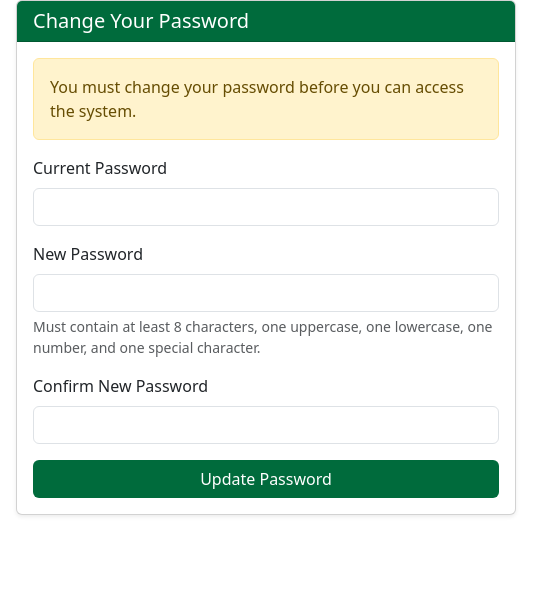
Test: ChangePassword Component › should validate that new passwords match
Type "password123" into the password field labelled "Current Password" at (266, 207), box [33,188,499,226]
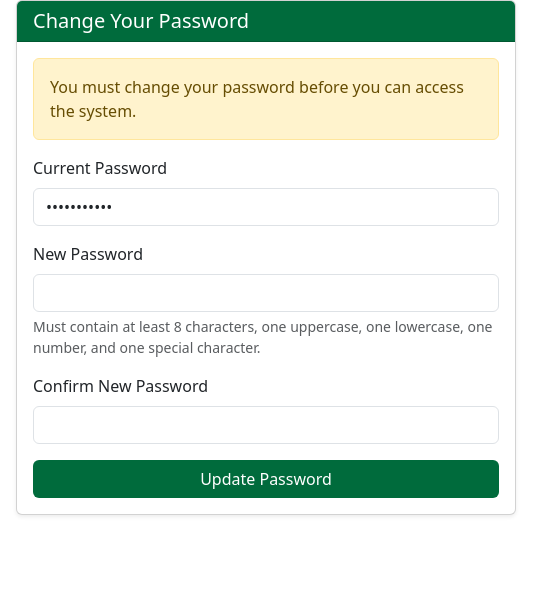
Type "NewPassword1!" into the password field labelled "New Password" at (266, 293), box [33,274,499,312]
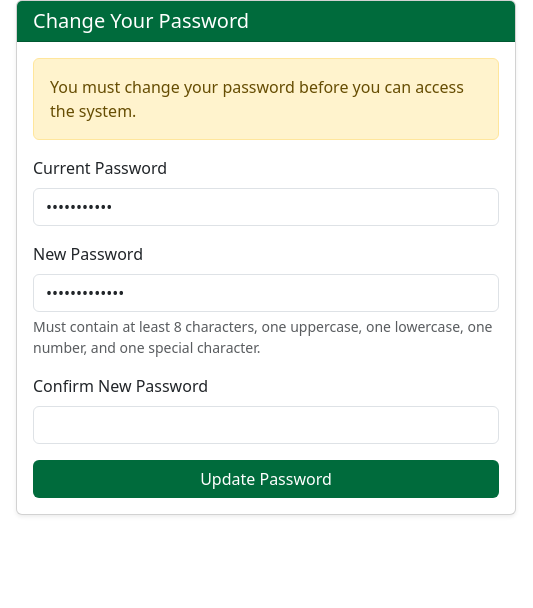
Type "DifferentPassword1!" into the password field labelled "Confirm New Password" at (266, 425), box [33,406,499,444]
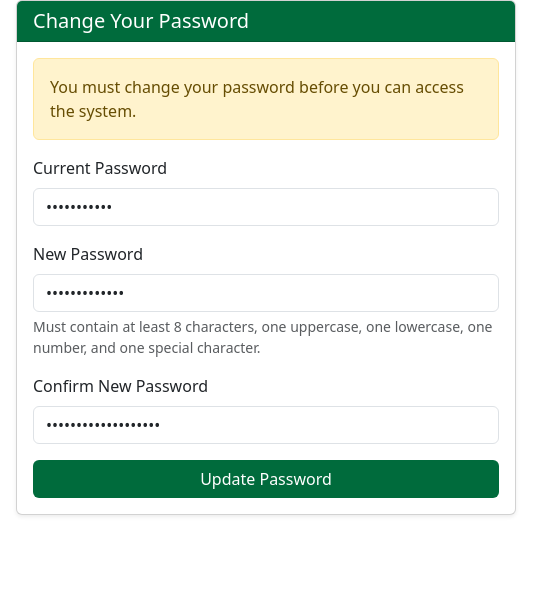
Click the button "Update Password" at (266, 479), box [33,460,499,498]
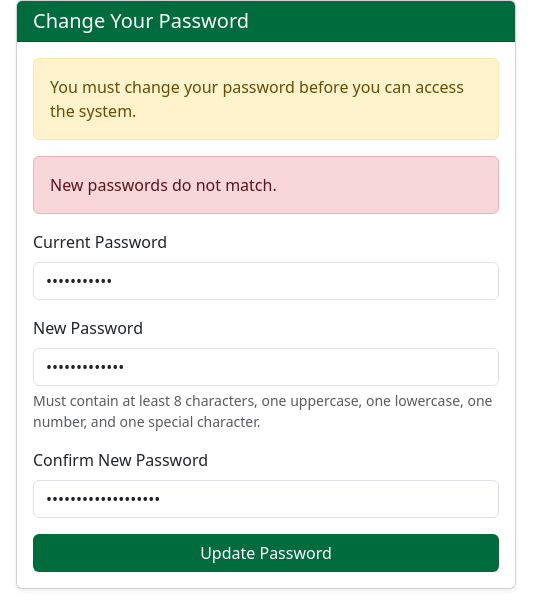
Check: the text "New passwords do not match." is shown, box [33,156,499,214]
